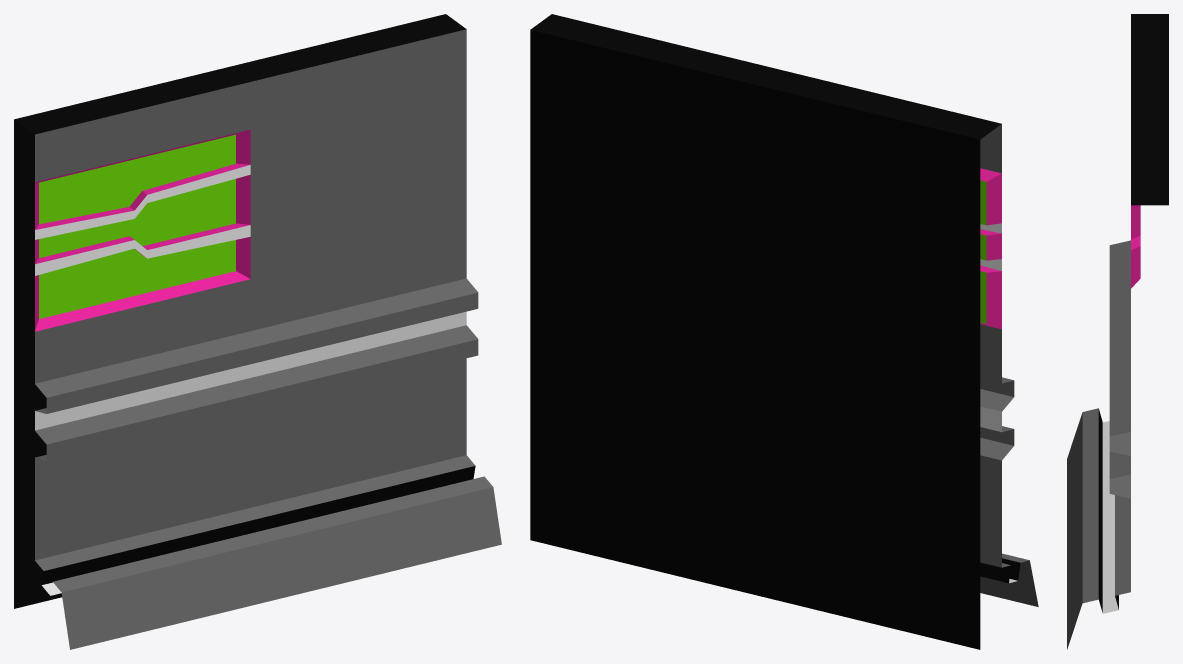
Rendered from Wall_Extrude1.fbx.
3 renders of one model, left to right at view 1: azimuth 30°, elevation 25°; view 2: azimuth 150°, elevation 25°; view 3: azimuth 270°, elevation 25°, orthographic. The views are drawn at different scales.
Parts seen in each view (by area): view 1: Wall; view 2: Wall; view 3: Wall.
Boxes of the visible parts, x1,y1,x2,y2 form: Wall: (14, 14, 501, 649); Wall: (530, 14, 1038, 649); Wall: (1067, 14, 1168, 649).
Size of the model in its own units: 240 by 260 by 53.91.
